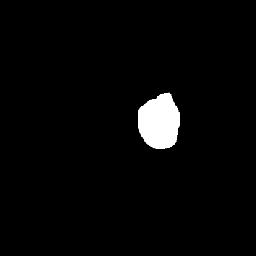mass: (148, 108, 202, 190)
